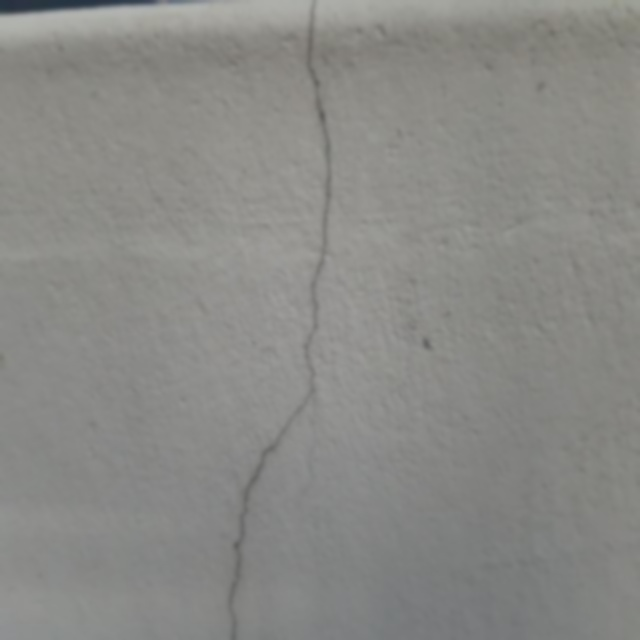SurfaceCrack: (197, 7, 377, 640)
